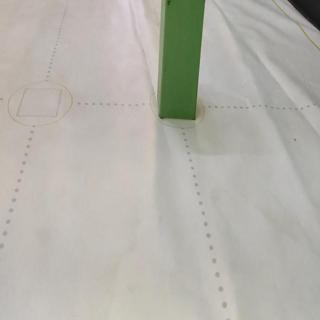greenbox: (157, 0, 204, 119)
